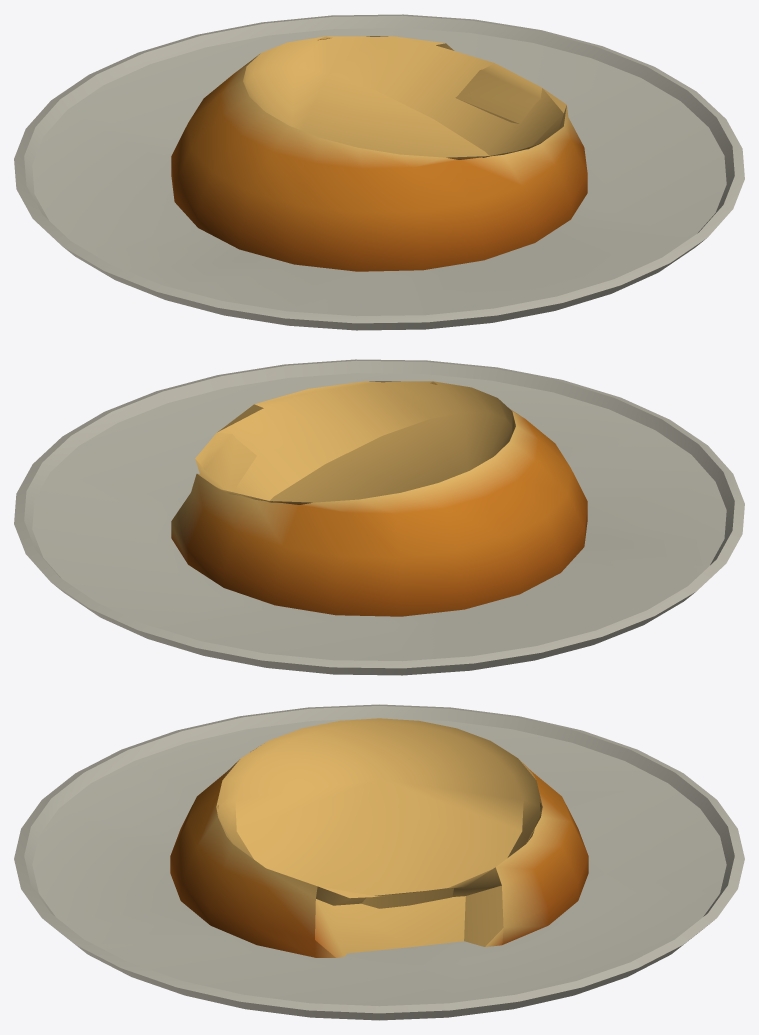
Rendered from food-pineapple-bun-s2.glb.
The picture shows the model from 3 angles, top to bottom: view 1: azimuth 30°, elevation 25°; view 2: azimuth 150°, elevation 25°; view 3: azimuth 270°, elevation 25°; orthographic projection.
Visible parts, largest first — view 1: plate__ceramic, bun__food; view 2: plate__ceramic, bun__food; view 3: plate__ceramic, bun__food.
Part boxes in pixels (x1=…): plate__ceramic: x1=14, y1=14, x2=744, y2=330; bun__food: x1=171, y1=36, x2=587, y2=271; plate__ceramic: x1=14, y1=359, x2=744, y2=675; bun__food: x1=171, y1=381, x2=587, y2=616; plate__ceramic: x1=14, y1=704, x2=744, y2=1020; bun__food: x1=170, y1=718, x2=588, y2=957.
Bounding box in the file's own units: 0.18 × 0.0351 × 0.18.
